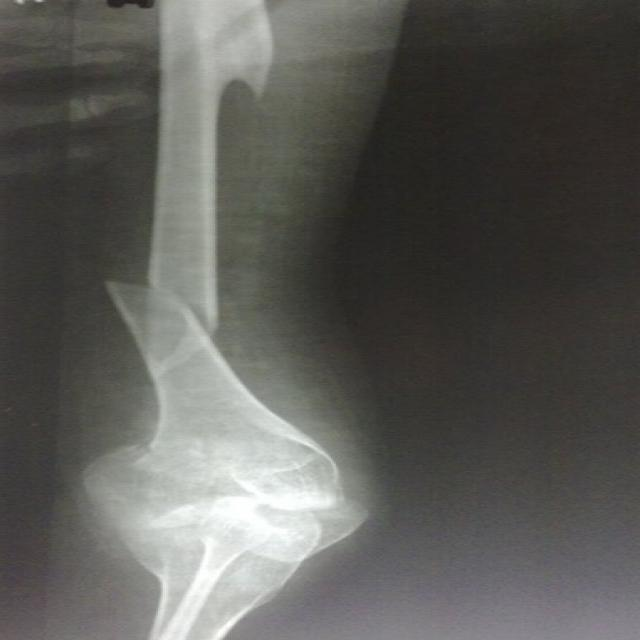Broken: (144, 14, 240, 327), (113, 286, 264, 410)
